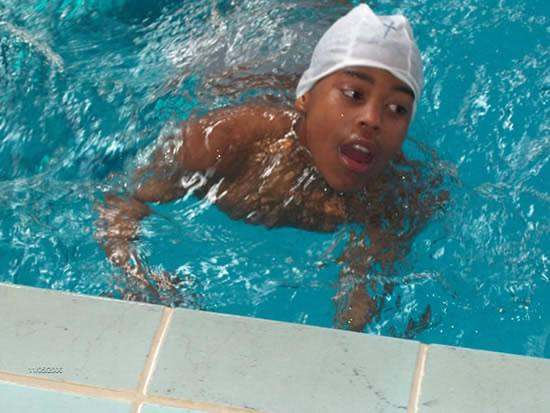swimmer: (97, 7, 439, 323)
